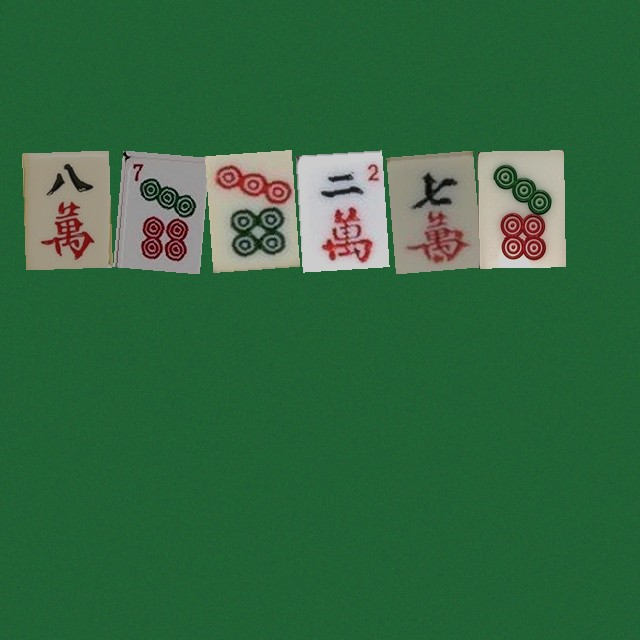tile: (22, 150, 109, 267), (113, 150, 200, 267), (204, 150, 291, 267), (295, 150, 382, 267), (386, 150, 473, 267), (477, 150, 564, 267)
